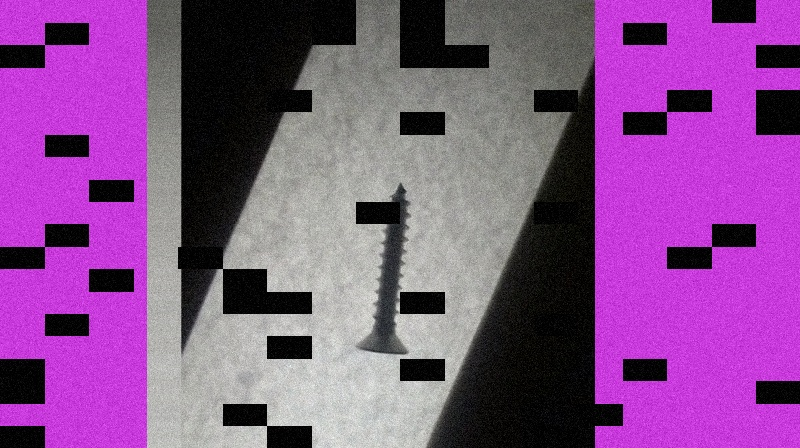S001: (354, 175, 412, 356)
